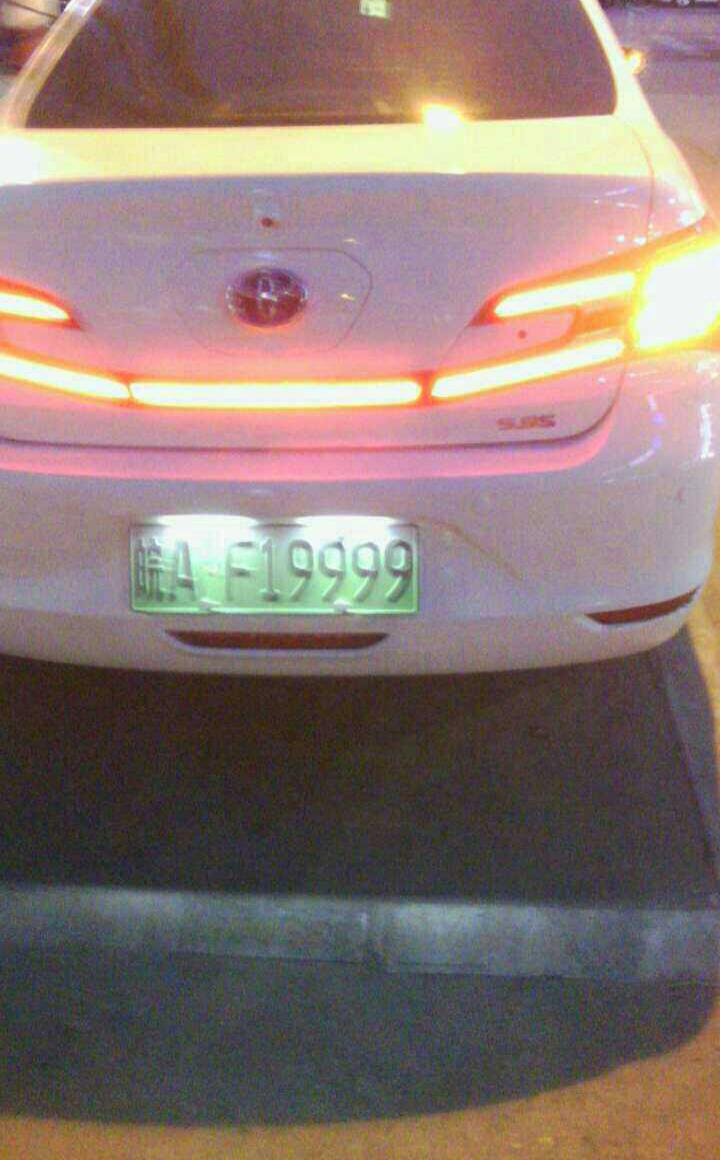car_id: (125, 523, 417, 611)
